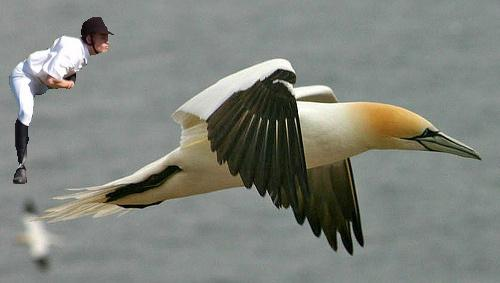tampered: (10, 18, 114, 184)
